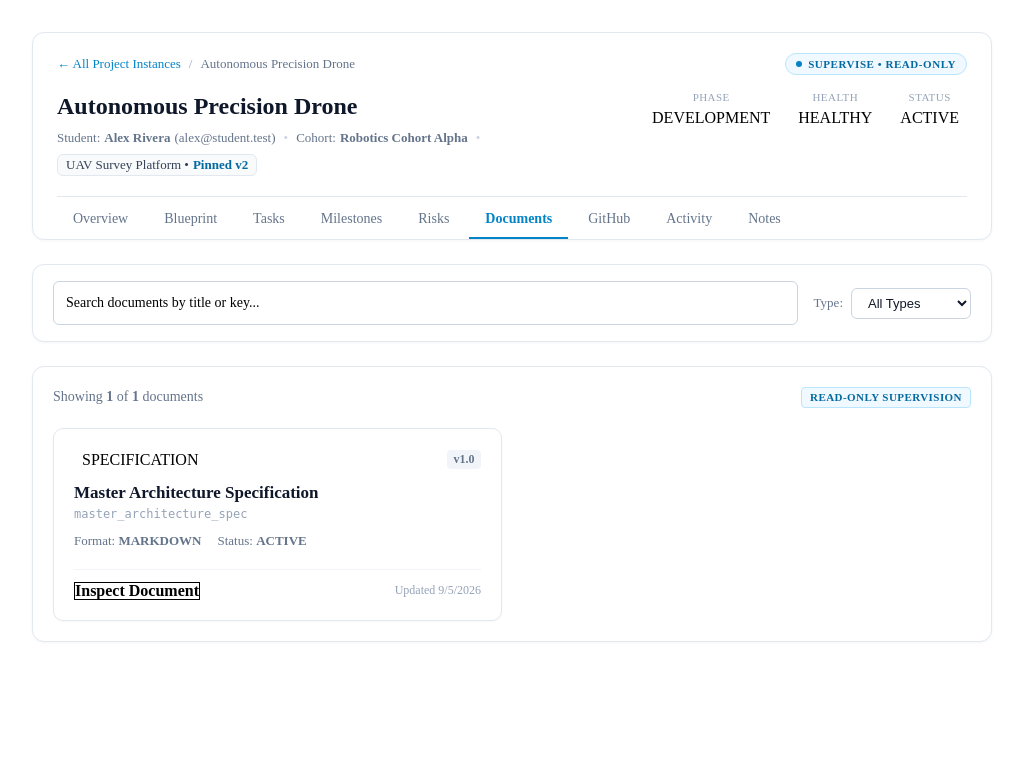
Scenario: Phase 7 Batch 4: Mentor Project Instance Deep Inspection (M24–M30) › M28 — Instance Documents › renders document list and opens read-only inspection modal
Expected: the heading "Master Architecture Specification" is shown, [74,483,319,502]
Expected: the text "master_architecture_spec" is shown, [74,507,247,521]
Open inspection modal
Click the button "Inspect Document": (137, 591) [74,582,200,600]
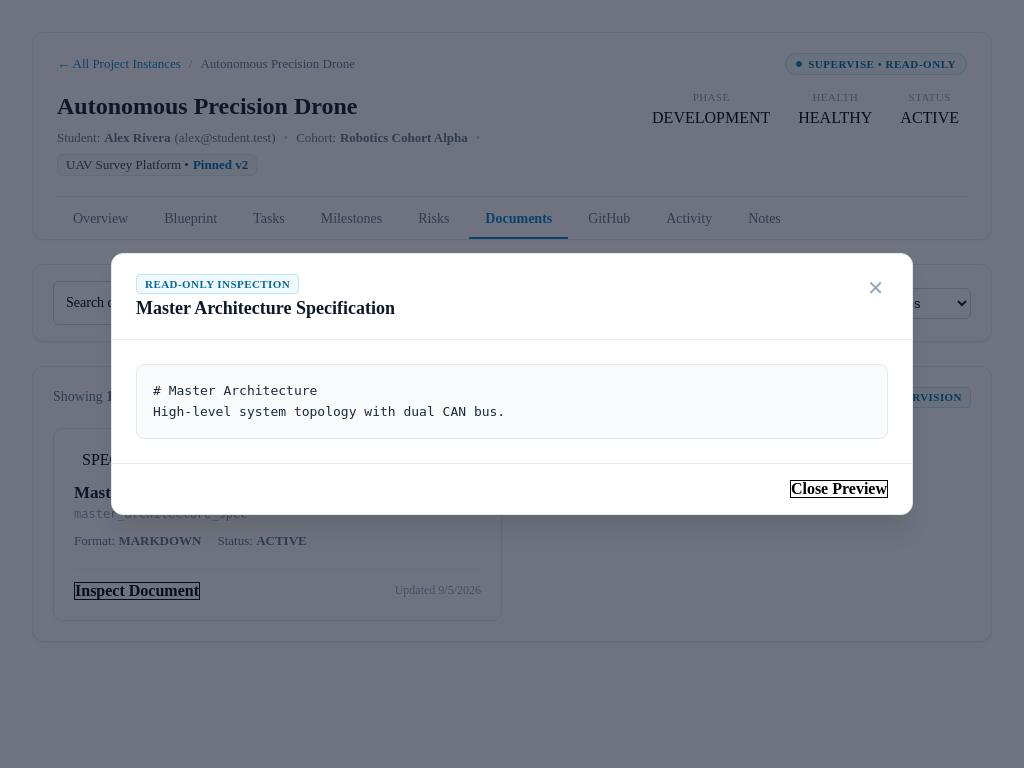
Expected: the text "READ-ONLY INSPECTION" is shown, [136,274,299,294]
Expected: the text "High-level system topology with dual CAN bus" is shown, [153,383,505,419]
Close modal
Click the button "Close Preview": (839, 490) [790,480,888,498]
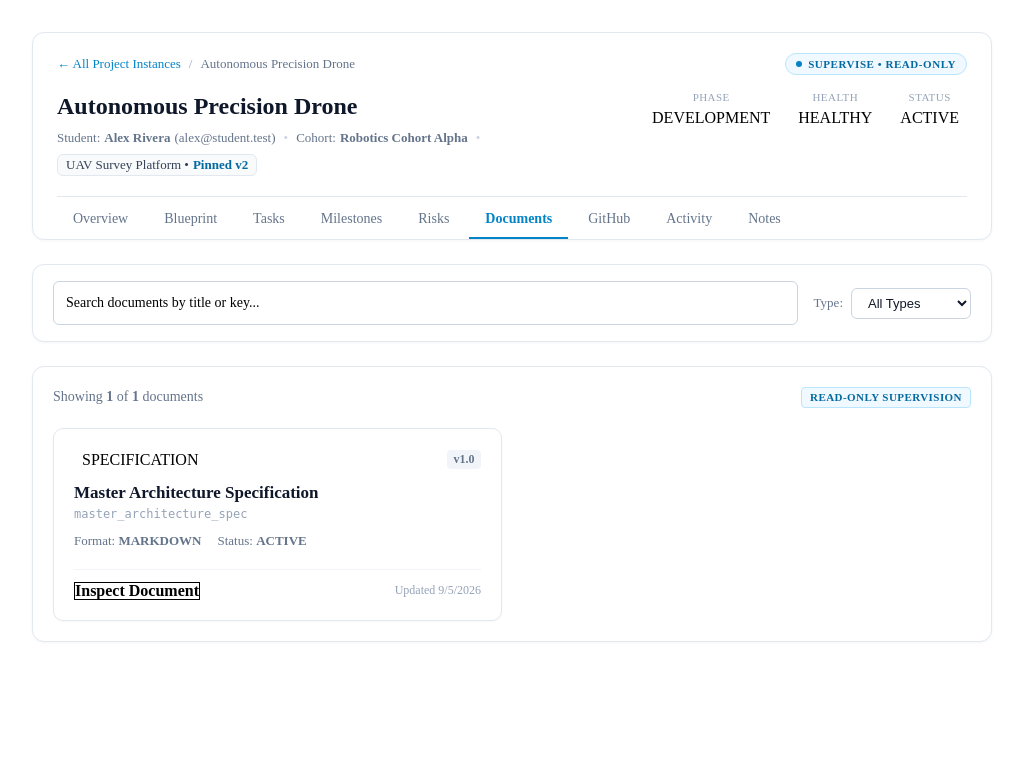
Expected: the text "READ-ONLY INSPECTION" is gone
